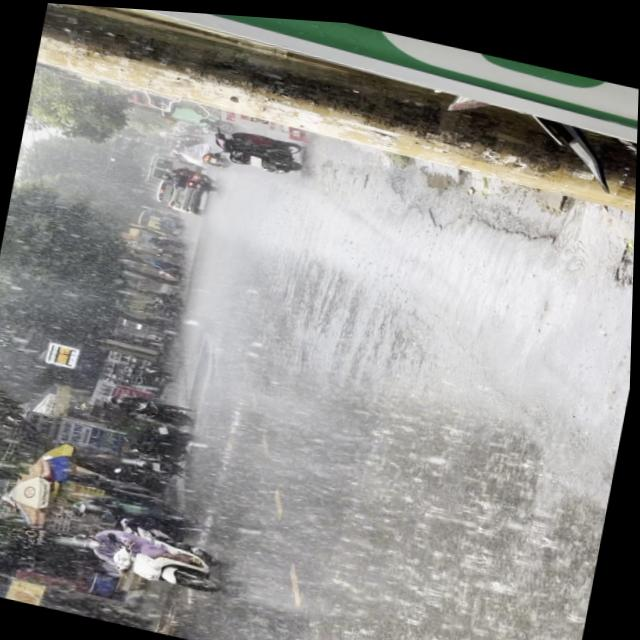helmet: (71, 529, 105, 552)
licenseplate: (65, 515, 228, 597)
